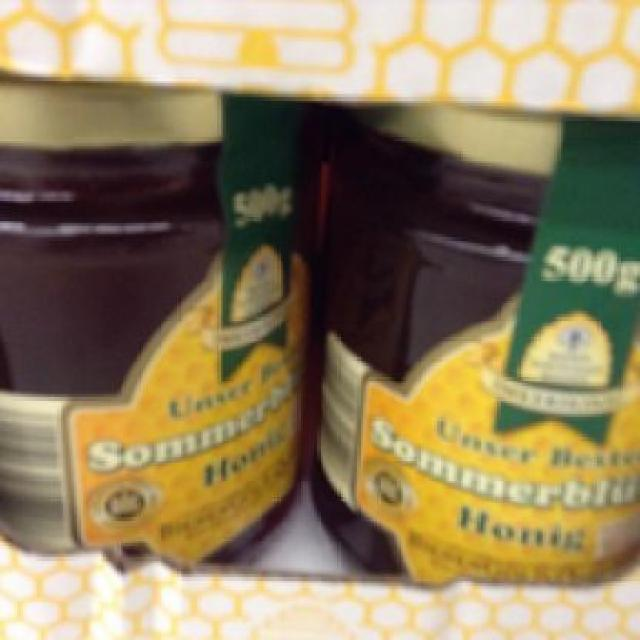Honey: (0, 77, 312, 583), (326, 109, 637, 588)
